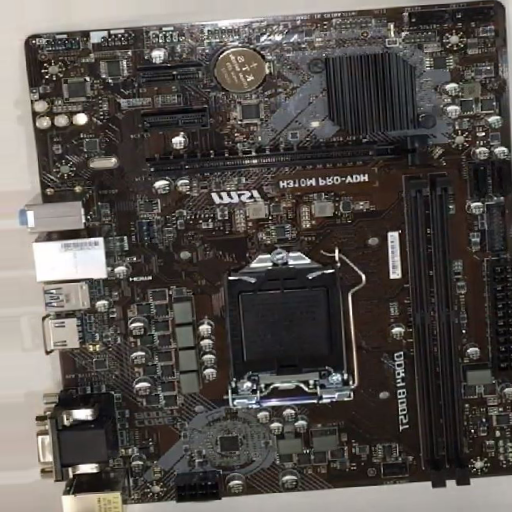CPU: (230, 250, 353, 411)
GPU: (149, 134, 430, 179)
MOTHERBOARD: (31, 2, 507, 500)
RAM: (403, 175, 472, 488)
